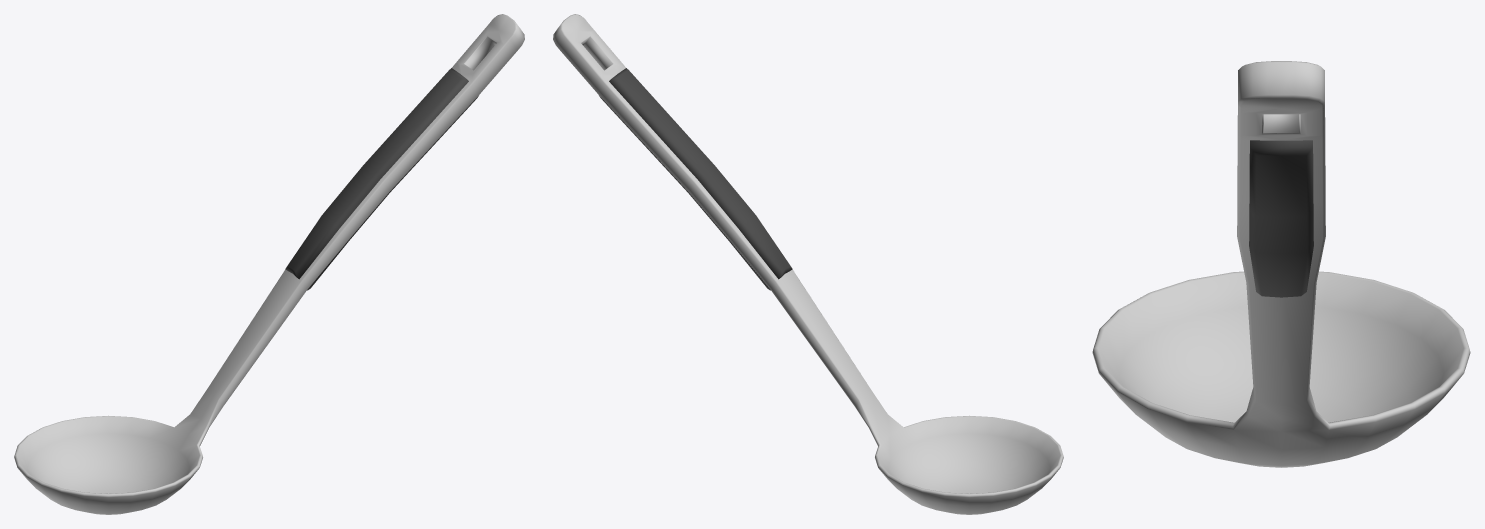
Rendered from Sendok Sayur.fbx.
The picture shows the model from 3 angles, left to right: view 1: azimuth 30°, elevation 25°; view 2: azimuth 150°, elevation 25°; view 3: azimuth 270°, elevation 25°; orthographic projection. The views are drawn at different scales.
Visible parts, largest first — view 1: Sendok Sayur; view 2: Sendok Sayur; view 3: Sendok Sayur.
Part boxes in pixels (bbox=[...]): Sendok Sayur: bbox=[14, 14, 524, 514]; Sendok Sayur: bbox=[553, 14, 1063, 514]; Sendok Sayur: bbox=[1092, 61, 1470, 467].
Size of the model in its own units: 27.86 by 20.84 by 9.27.
Materials: 1 (1 with a texture image).
